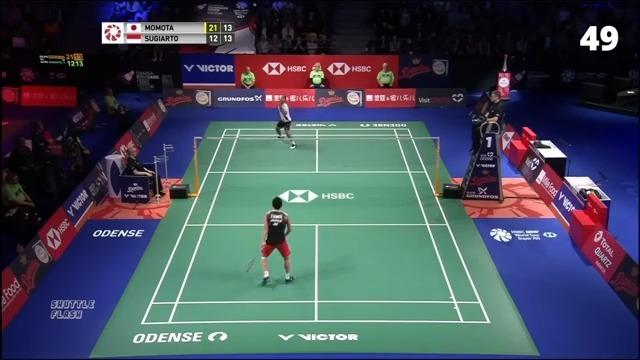Shuttlecock: (252, 2, 258, 8)
